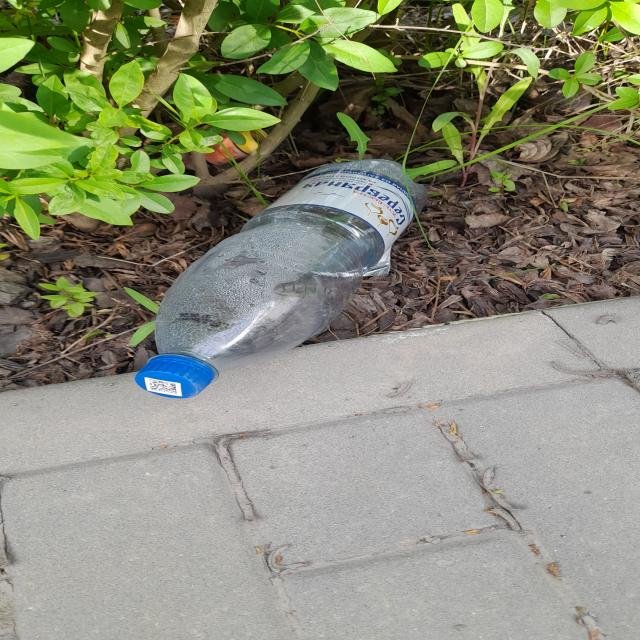empty: (136, 160, 426, 398)
